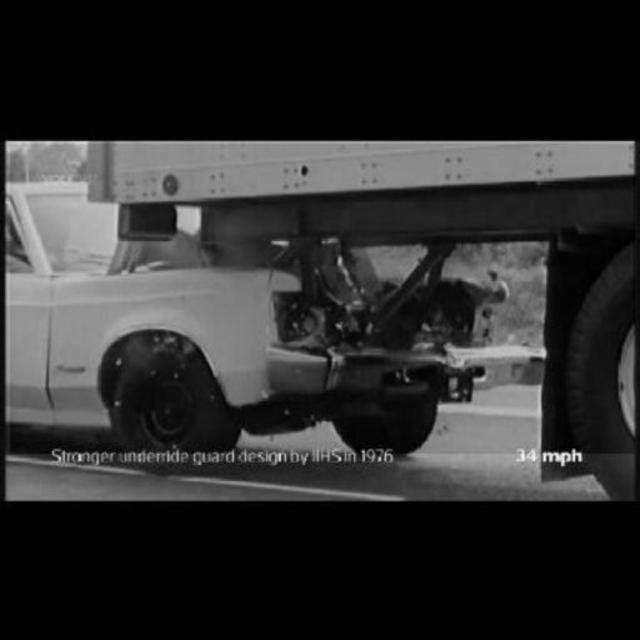accident: (11, 144, 635, 454)
